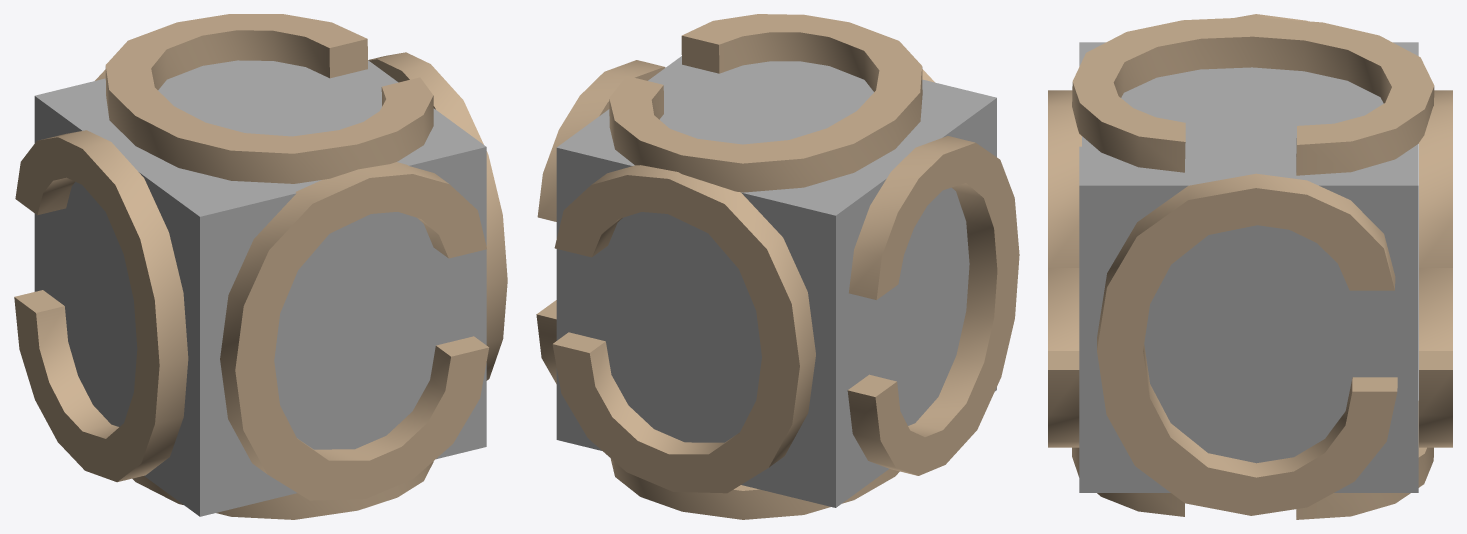
The model's file is LetterC.fbx.
3 views of the same model, side by side, from view 1: azimuth 30°, elevation 25°; view 2: azimuth 150°, elevation 25°; view 3: azimuth 270°, elevation 25° (orthographic). The views are drawn at different scales.
Parts seen in each view (by area): view 1: Box, Text Front, Text Left, Text Top, Text Right, Text Bottom; view 2: Box, Text Back, Text Left, Text Top, Text Bottom, Text Right; view 3: Box, Text Right, Text Top, Text Back, Text Front, Text Bottom.
Part boxes in pixels (box(x1,y1,x2,y2)): Box: box(34, 60, 486, 516); Text Front: box(220, 162, 489, 500); Text Left: box(14, 130, 188, 482); Text Top: box(105, 14, 433, 183); Text Right: box(368, 52, 507, 380); Text Bottom: box(132, 461, 433, 519); Box: box(556, 56, 996, 507); Text Back: box(552, 165, 815, 493); Text Left: box(847, 136, 1019, 475); Text Top: box(609, 14, 922, 192); Text Bottom: box(610, 458, 899, 519); Text Right: box(536, 60, 665, 383); Box: box(1079, 42, 1418, 492); Text Right: box(1097, 173, 1397, 515); Text Top: box(1072, 17, 1434, 175); Text Back: box(1419, 90, 1452, 447); Text Front: box(1048, 90, 1081, 447); Text Bottom: box(1072, 401, 1433, 519).
Size of the model in its own units: 1.22 by 1.24 by 1.19.
